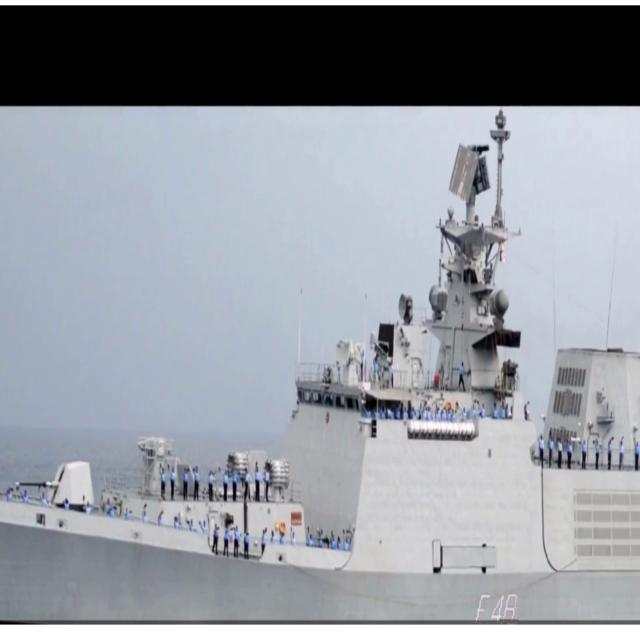OCR: (470, 587, 523, 623)
